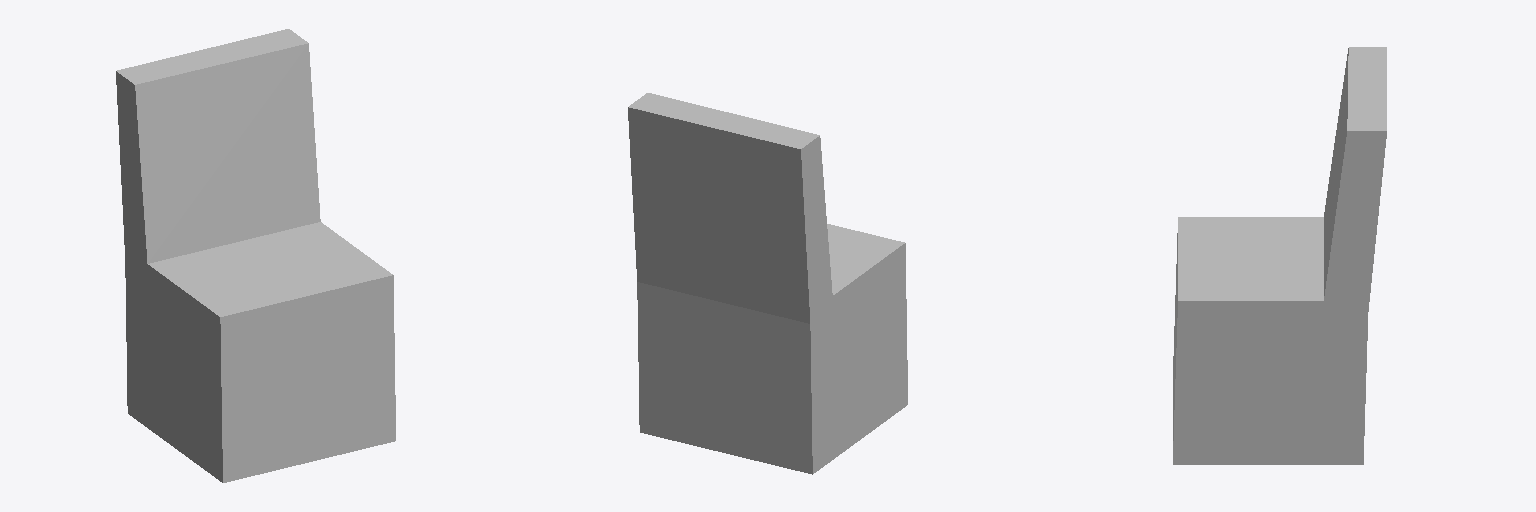
Rendered from Collision_Wabble_Chair.obj.
The picture shows the model from 3 angles: view 1: azimuth 30°, elevation 25°; view 2: azimuth 150°, elevation 25°; view 3: azimuth 270°, elevation 25°; orthographic projection.
Visible parts, largest first — view 1: Wabble_Chair_Collision_Cube.004; view 2: Wabble_Chair_Collision_Cube.004; view 3: Wabble_Chair_Collision_Cube.004.
Boxes of the visible parts, box(x1,y1,x2,y2) form: Wabble_Chair_Collision_Cube.004: box(116, 29, 395, 482); Wabble_Chair_Collision_Cube.004: box(628, 93, 907, 474); Wabble_Chair_Collision_Cube.004: box(1173, 47, 1386, 464).
Size of the model in its own units: 0.4452 by 0.8205 by 0.4777.